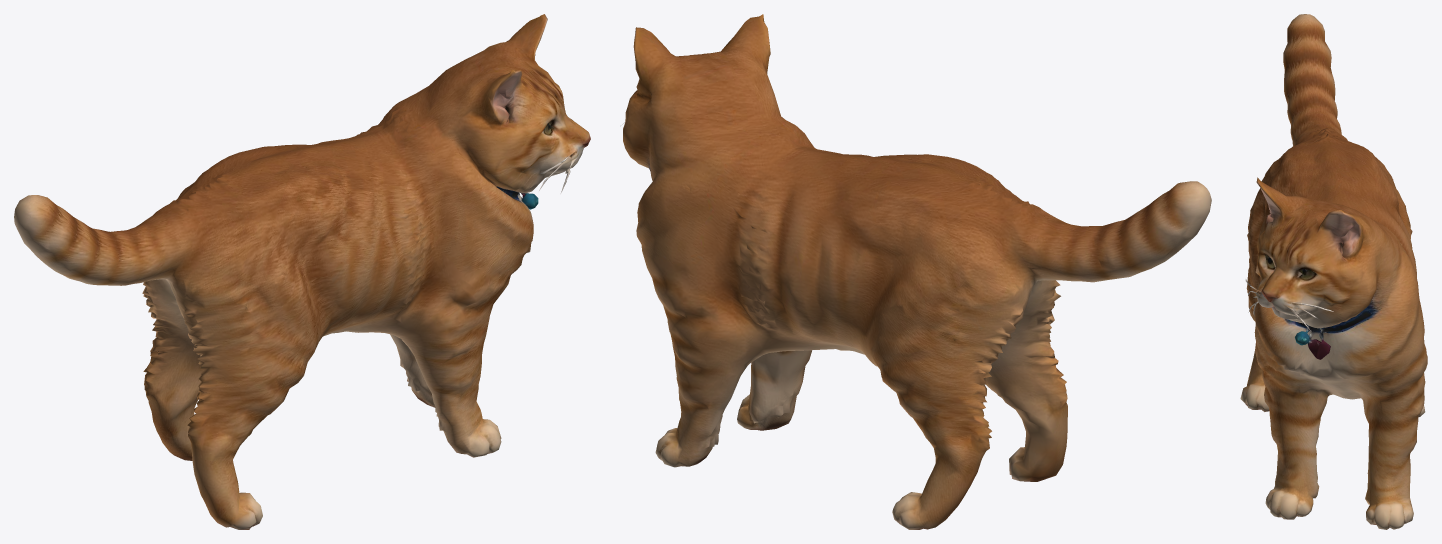
File: PAPRIKA.glb
3 renders of one model, left to right at view 1: azimuth 30°, elevation 25°; view 2: azimuth 150°, elevation 25°; view 3: azimuth 270°, elevation 25°, orthographic. The views are drawn at different scales.
Parts seen in each view (by area): view 1: tripo_node_335e7f28-f03f-4e2c-9164-4559c79f9c66; view 2: tripo_node_335e7f28-f03f-4e2c-9164-4559c79f9c66; view 3: tripo_node_335e7f28-f03f-4e2c-9164-4559c79f9c66.
Part boxes in pixels (x1,y1,x2,y2): tripo_node_335e7f28-f03f-4e2c-9164-4559c79f9c66: (14, 14, 590, 529); tripo_node_335e7f28-f03f-4e2c-9164-4559c79f9c66: (622, 14, 1211, 529); tripo_node_335e7f28-f03f-4e2c-9164-4559c79f9c66: (1240, 14, 1427, 529).
Size of the model in its own units: 1.51 by 1 by 0.4901.
Materials: 1 (1 with a texture image).
